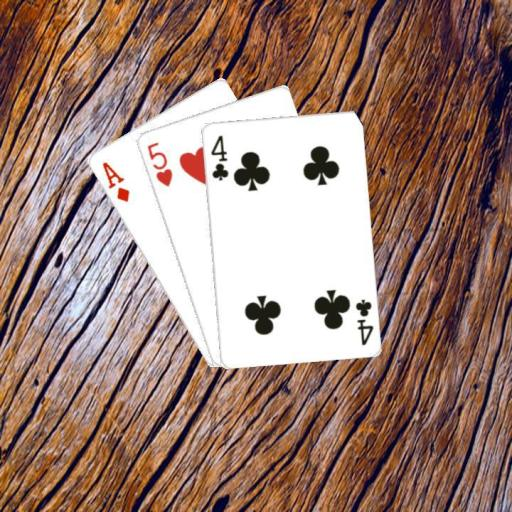4C: (351, 295, 375, 347), (207, 132, 230, 182)
5H: (144, 139, 174, 188)
AD: (98, 158, 131, 203)
